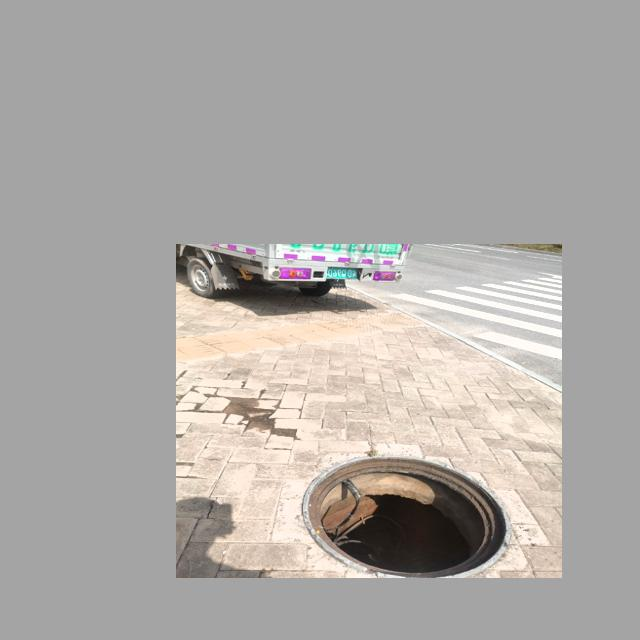lose: (284, 459, 519, 576)
